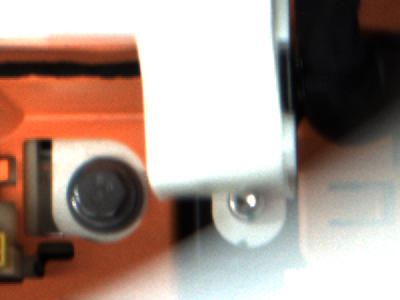nut_b: (67, 158, 146, 234)
